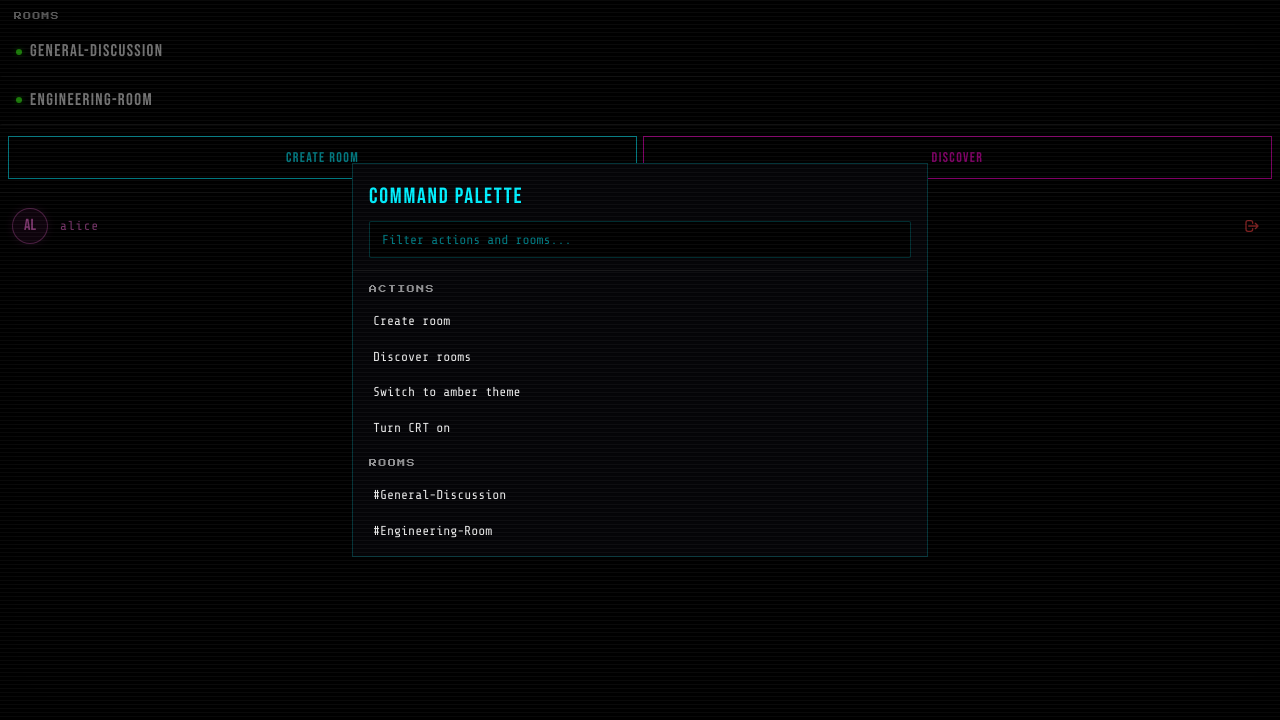
Test: RoomList › opens create-room modal from command palette action and closes palette
The image size is (1280, 720).
Check: the text "General-Discussion" is shown, box [30, 41, 163, 61]
Check: the heading "Command Palette" is shown, box [369, 183, 523, 210]
Click the button "Create room" at (412, 321), box [361, 303, 919, 339]
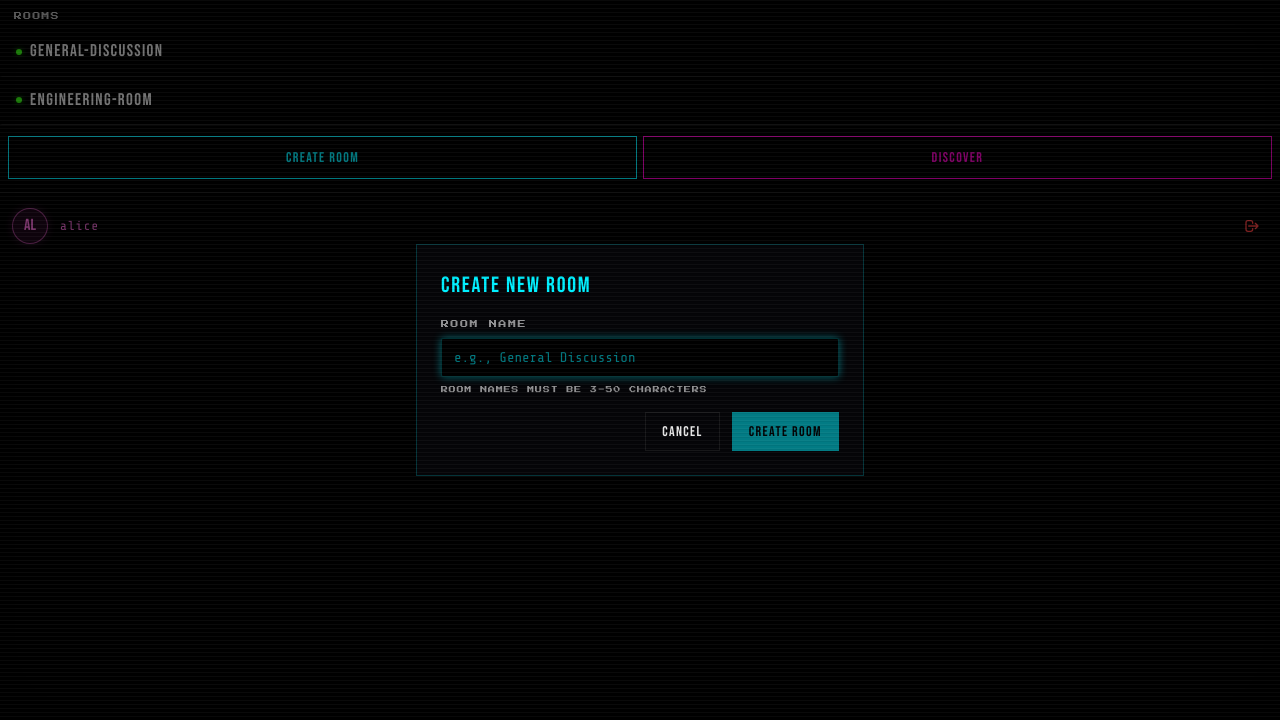
Check: the heading "Create New Room" is shown, box [441, 272, 592, 299]
Check: the heading "Command Palette" is gone
